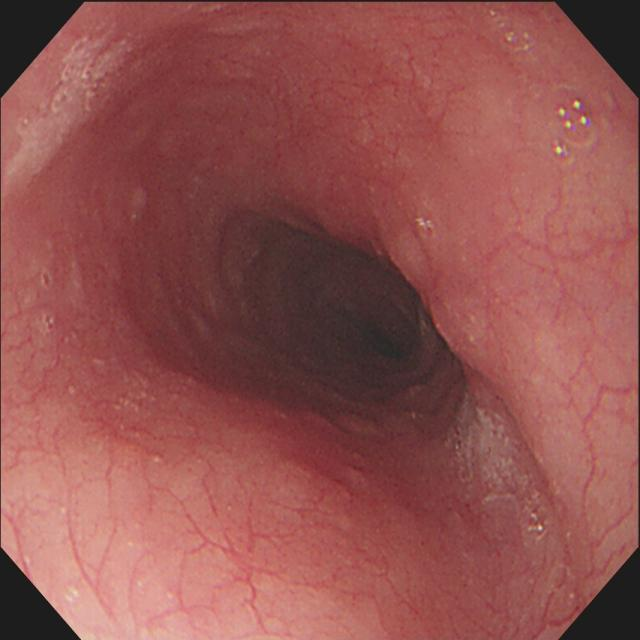E: (235, 220, 433, 397)
J: (11, 40, 132, 170), (448, 402, 539, 536)
T: (542, 82, 598, 168), (487, 3, 537, 56)
